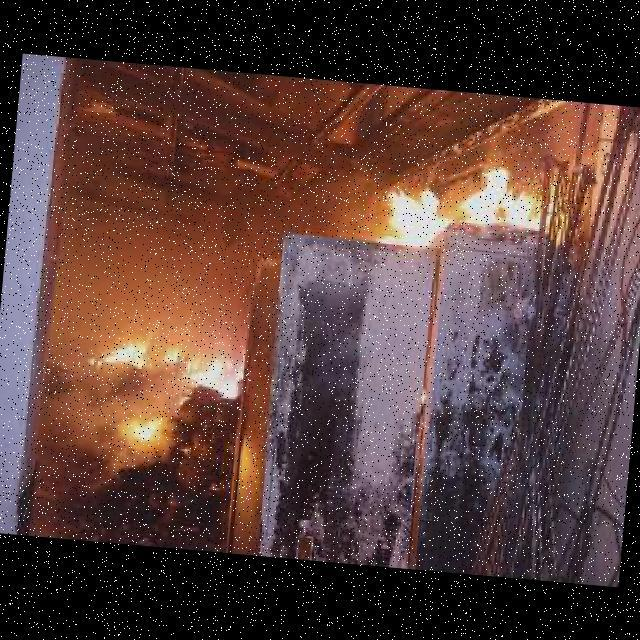Fire: (372, 161, 556, 252), (183, 349, 245, 400), (84, 328, 153, 368), (119, 411, 159, 440), (158, 344, 183, 364)
